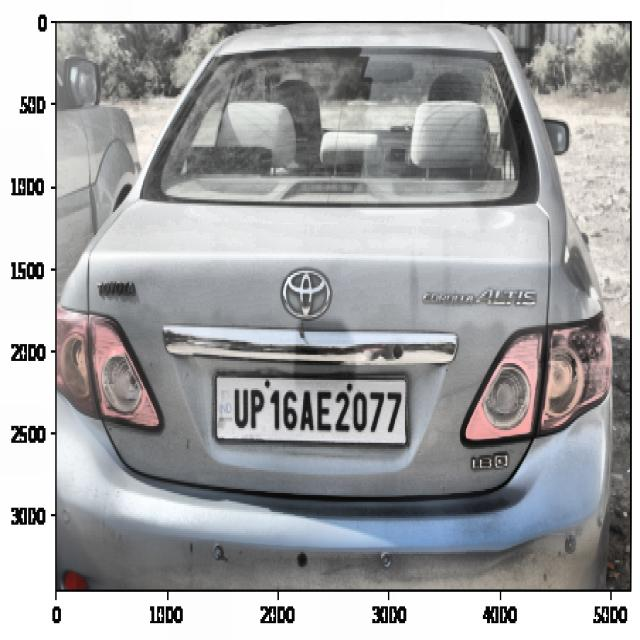license_plate: (225, 377, 408, 446)
